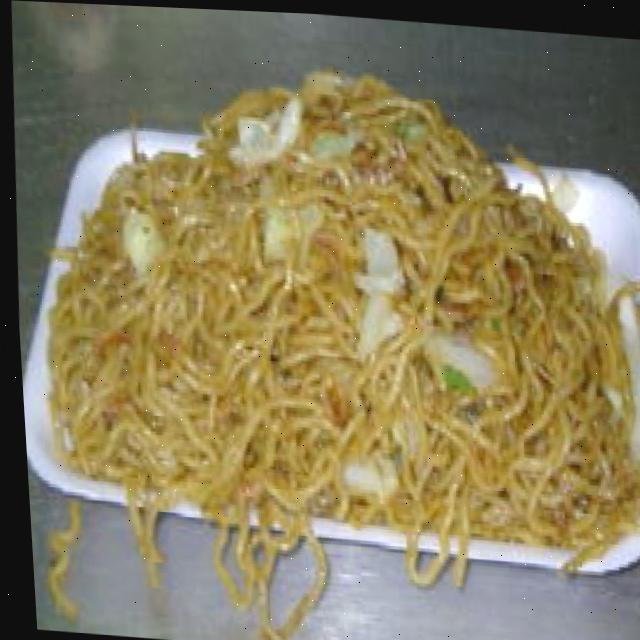面条主食: (1, 21, 640, 638)
